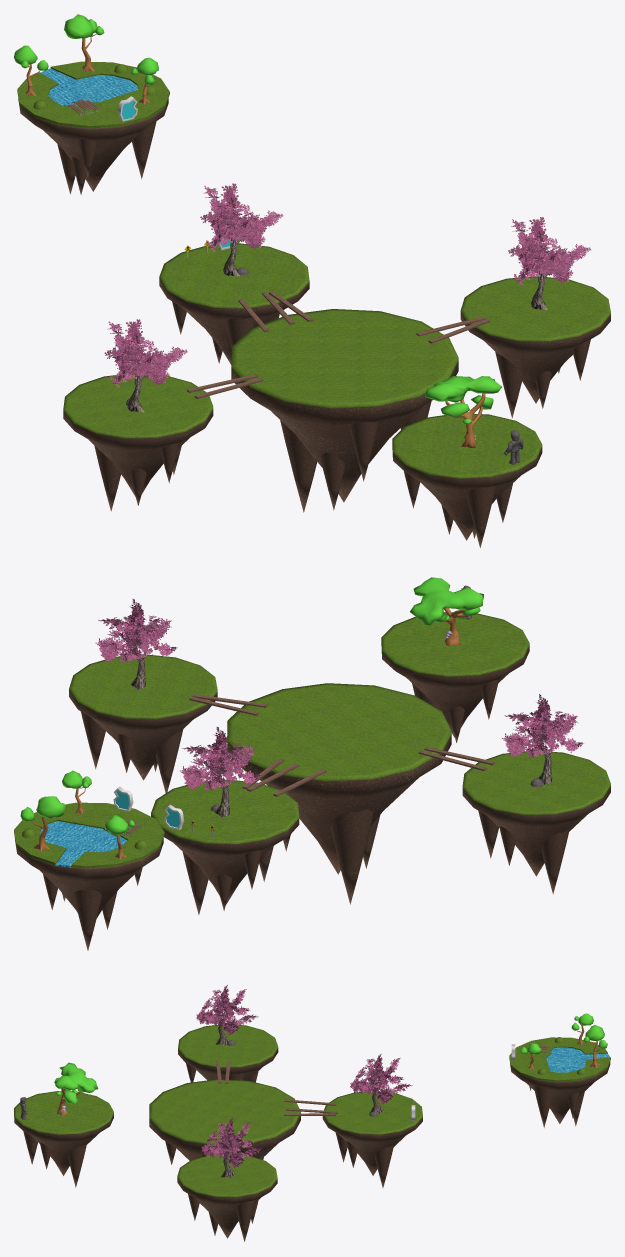
The picture shows the model from 3 angles, top to bottom: view 1: azimuth 30°, elevation 25°; view 2: azimuth 150°, elevation 25°; view 3: azimuth 270°, elevation 25°; orthographic projection. The views are drawn at different scales.
Parts seen in each view (by area): view 1: Cylinder.001, Cylinder.025, Cylinder.019, Cylinder.013, Cylinder.007, Cylinder.031, Cylinder.037, Circle.003, Circle.001, Circle.002, Arbol, Cylinder.038 (+1 smaller); view 2: Cylinder.001, Cylinder.025, Cylinder.019, Cylinder.007, Cylinder.013, Cylinder.037, Cylinder.031, Circle.002, Circle.001, Circle.003, Arbol, Cylinder.038 (+3 smaller); view 3: Cylinder.001, Cylinder.013, Cylinder.025, Cylinder.007, Cylinder.019, Cylinder.037, Cylinder.031, Circle.002, Circle.001, Circle.003, Arbol, Cylinder.038 (+1 smaller).
Part boxes in pixels (x1,y1,x2,y2): Cylinder.001: [231, 309, 458, 512]; Cylinder.025: [460, 276, 610, 418]; Cylinder.019: [63, 373, 213, 511]; Cylinder.013: [392, 414, 542, 547]; Cylinder.007: [159, 243, 309, 364]; Cylinder.031: [18, 98, 168, 194]; Cylinder.037: [17, 61, 169, 128]; Circle.003: [200, 183, 283, 276]; Circle.001: [104, 319, 187, 412]; Circle.002: [508, 217, 591, 309]; Arbol: [424, 376, 501, 447]; Cylinder.038: [40, 68, 138, 105]; Cylinder.001: [227, 683, 451, 904]; Cylinder.025: [69, 654, 217, 792]; Cylinder.019: [462, 751, 610, 894]; Cylinder.007: [151, 780, 299, 914]; Cylinder.013: [381, 612, 529, 742]; Cylinder.037: [14, 802, 164, 868]; Cylinder.031: [15, 838, 163, 950]; Circle.002: [95, 599, 177, 689]; Circle.001: [502, 694, 583, 785]; Circle.003: [179, 727, 261, 817]; Arbol: [410, 577, 483, 645]; Cylinder.038: [40, 821, 127, 867]; Cylinder.001: [149, 1079, 300, 1164]; Cylinder.013: [14, 1091, 113, 1187]; Cylinder.025: [177, 1154, 277, 1241]; Cylinder.007: [322, 1092, 422, 1187]; Cylinder.019: [178, 1024, 278, 1082]; Cylinder.037: [509, 1037, 610, 1081]; Cylinder.031: [510, 1061, 610, 1127]; Circle.002: [201, 1118, 263, 1178]; Circle.001: [196, 985, 258, 1045]; Circle.003: [350, 1054, 412, 1114]; Arbol: [54, 1062, 98, 1115]; Cylinder.038: [546, 1047, 609, 1072].
Size of the model in its own units: 531 by 283 by 779.
Materials: 18 (8 with a texture image).
